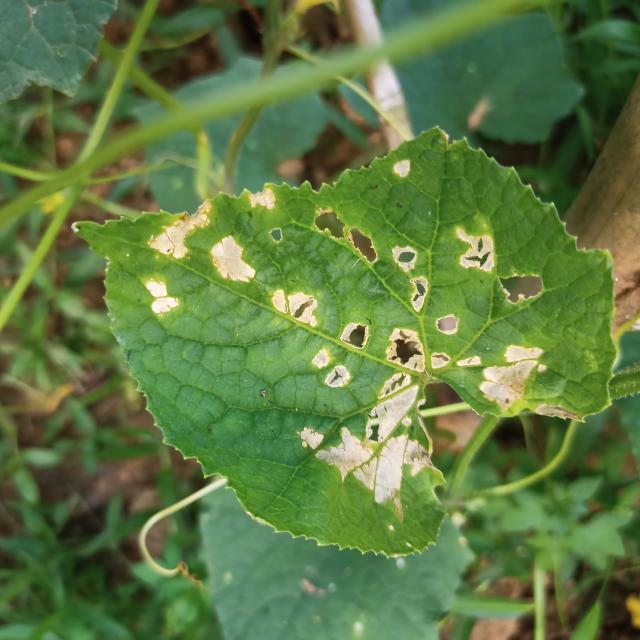disease_cucumber: (269, 224, 553, 519), (127, 184, 284, 320), (383, 152, 424, 191)
